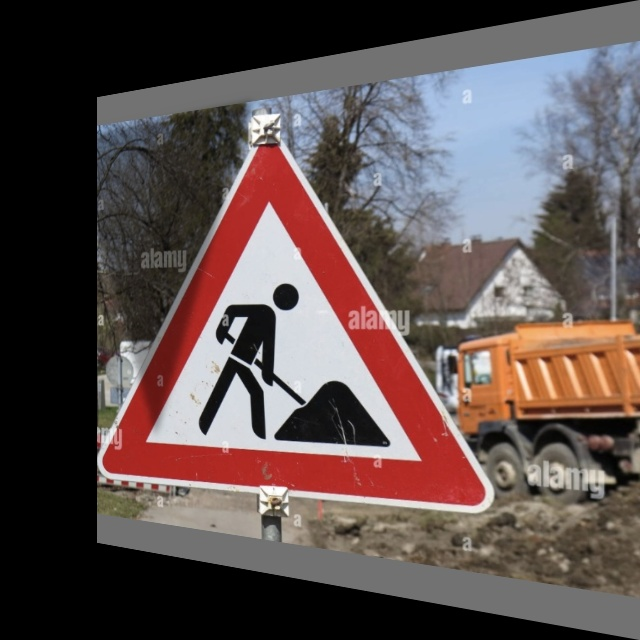Men_at_Work: (139, 127, 461, 502)
